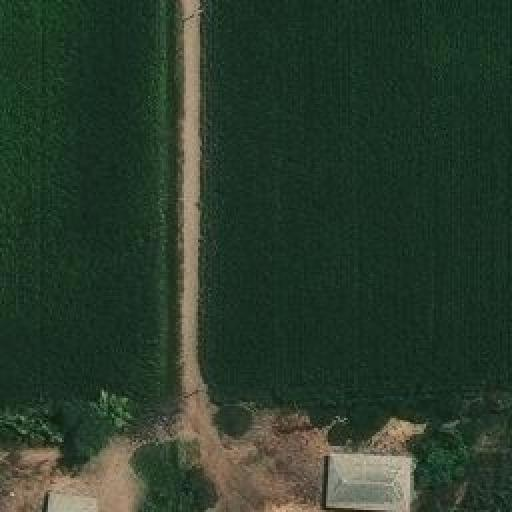manzanas: (317, 452, 411, 510), (35, 491, 103, 510)
